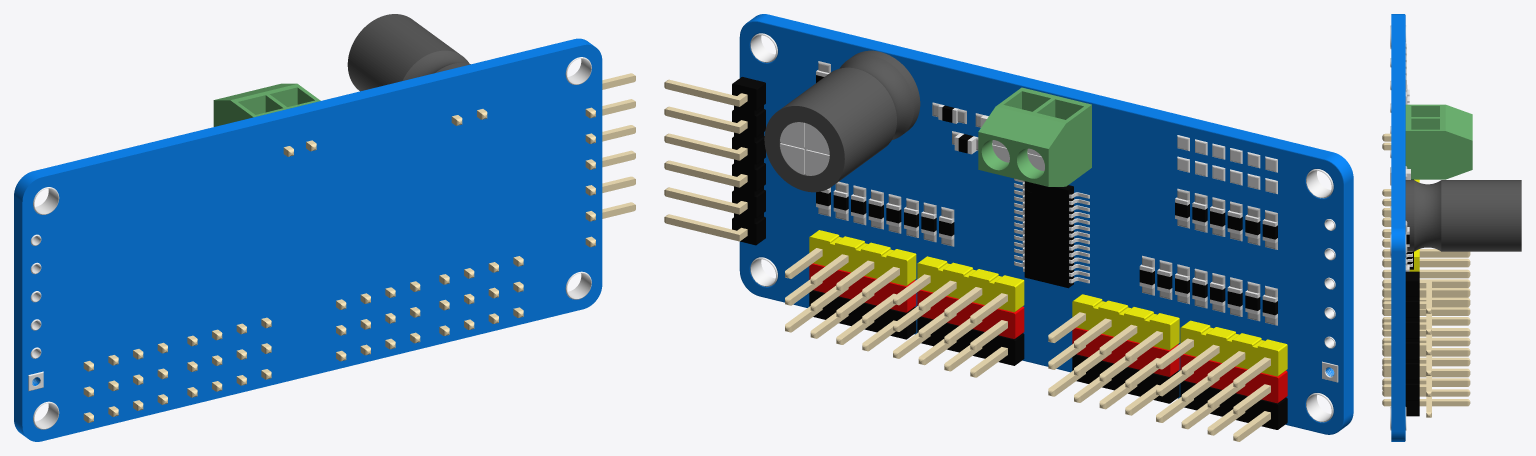
File: PCA9685 v18.glb
3 views of the same model, side by side, from view 1: azimuth 30°, elevation 25°; view 2: azimuth 150°, elevation 25°; view 3: azimuth 270°, elevation 25° (orthographic). The views are drawn at different scales.
Visible parts, largest first — view 1: Node3, Node2, Node4, Node8, Node1; view 2: Node3, Node2, Node6, Node1, Node4, Node7, Node8, Node5, Node9; view 3: Node2, Node4, Node3, Node8, Node6, Node1, Node7.
Part boxes in pixels (x1,y1,x2,y2): Node3: [14, 38, 602, 441]; Node2: [83, 73, 635, 422]; Node4: [347, 14, 470, 91]; Node8: [213, 83, 320, 126]; Node1: [28, 57, 591, 429]; Node3: [739, 14, 1353, 434]; Node2: [664, 79, 1270, 441]; Node6: [732, 75, 1287, 429]; Node1: [750, 33, 1338, 422]; Node4: [764, 50, 920, 192]; Node7: [809, 230, 1287, 376]; Node8: [978, 87, 1091, 186]; Node5: [809, 263, 1287, 403]; Node9: [818, 61, 1277, 325]; Node2: [1382, 133, 1470, 417]; Node4: [1405, 180, 1521, 251]; Node3: [1391, 14, 1405, 441]; Node8: [1405, 104, 1472, 179]; Node6: [1405, 179, 1419, 416]; Node1: [1390, 25, 1412, 430]; Node7: [1409, 179, 1419, 271].
Bounding box in the file's own units: 66.09 × 26.2 × 15.6.
